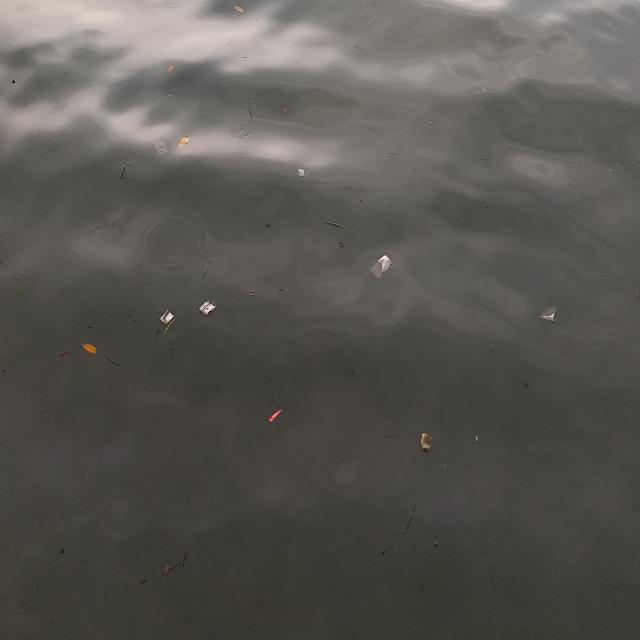Bungkus Makanan: (196, 295, 220, 320)
Bungkus Minuman: (421, 432, 434, 453)
Kantong Plastik: (364, 253, 396, 287)
